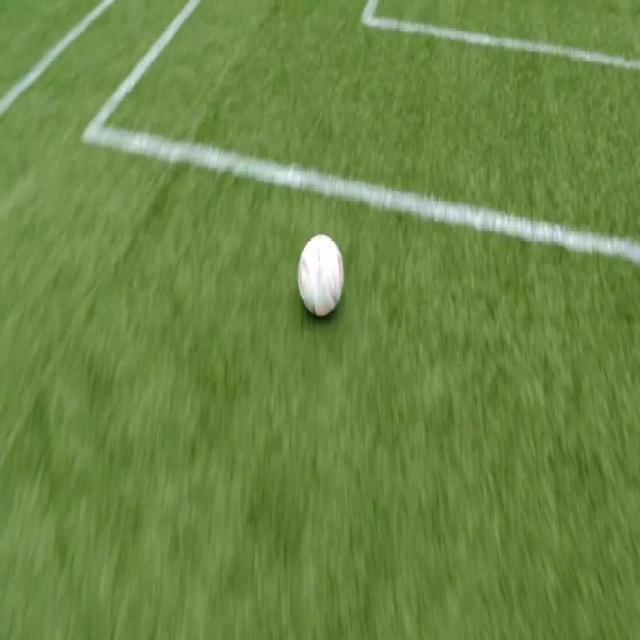ball: (298, 235, 344, 316)
